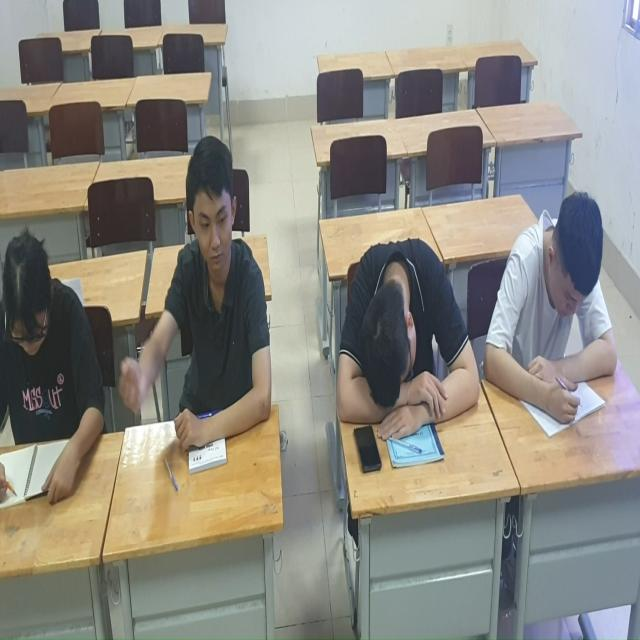raise_hand: (119, 127, 280, 483)
read: (490, 171, 625, 433), (1, 216, 109, 539)
sleep: (335, 228, 486, 434)
